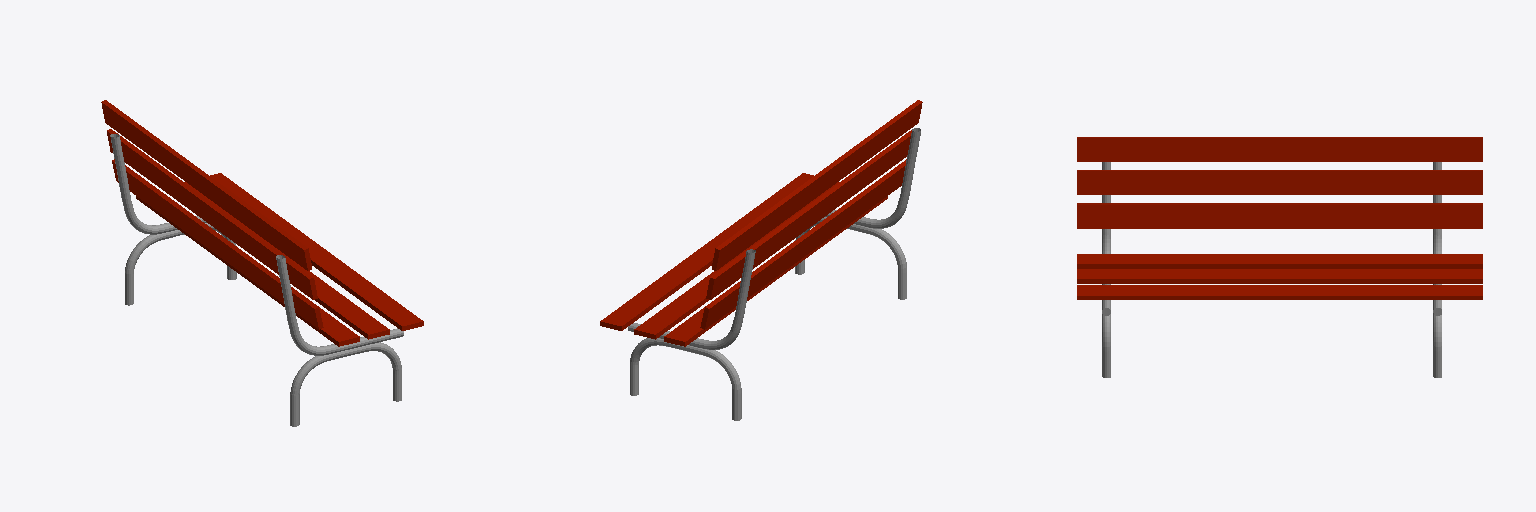
Rendered from bench_color.obj.
3 views of the same model, side by side, from view 1: azimuth 30°, elevation 25°; view 2: azimuth 150°, elevation 25°; view 3: azimuth 270°, elevation 25° (orthographic).
Visible parts, largest first — view 1: kiti_polySurface13.001, polySurface12_kiti.001; view 2: kiti_polySurface13.001, polySurface12_kiti.001; view 3: kiti_polySurface13.001, polySurface12_kiti.001.
Boxes of the visible parts, x1=… form: kiti_polySurface13.001: x1=101, y1=100, x2=423, y2=346; polySurface12_kiti.001: x1=110, y1=134, x2=403, y2=426; kiti_polySurface13.001: x1=600, y1=100, x2=922, y2=346; polySurface12_kiti.001: x1=628, y1=128, x2=920, y2=420; kiti_polySurface13.001: x1=1077, y1=137, x2=1482, y2=299; polySurface12_kiti.001: x1=1102, y1=162, x2=1441, y2=377.
Bounding box in the file's own units: 2.27 × 3.08 × 6.04.